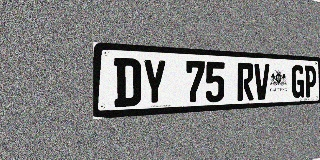5: (206, 61, 225, 103)
7: (184, 60, 205, 104)
D: (114, 58, 141, 107)
G: (292, 65, 304, 98)
P: (304, 65, 316, 98)
R: (237, 63, 254, 101)
V: (254, 63, 269, 100)
Y: (142, 59, 166, 106)
